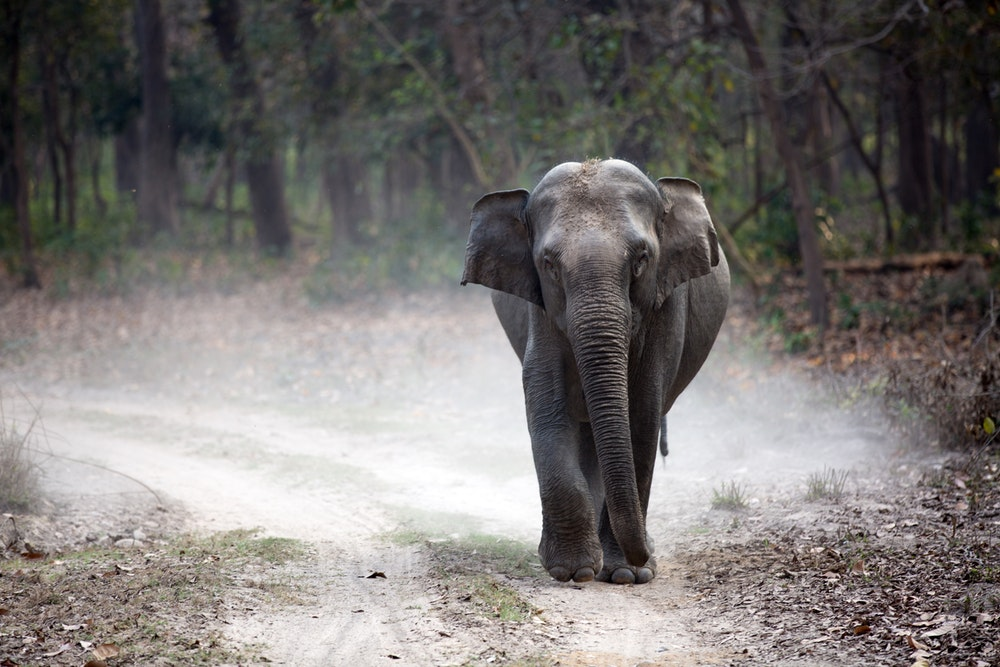Indian Elephant: (445, 149, 738, 603)
